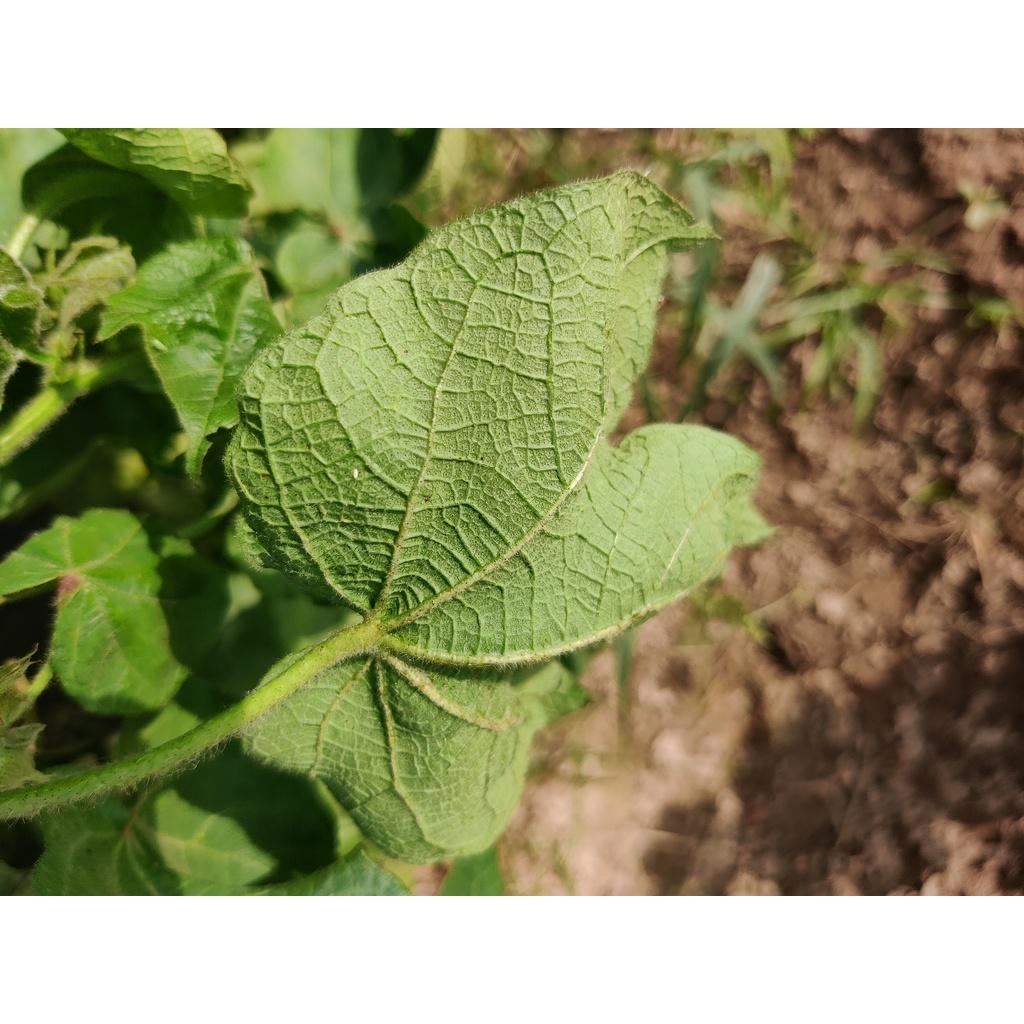adult: (152, 339, 168, 352), (352, 468, 360, 480)
